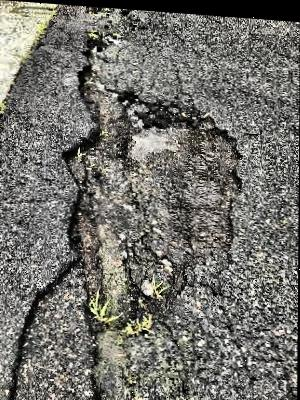pothole: (57, 32, 246, 341)
